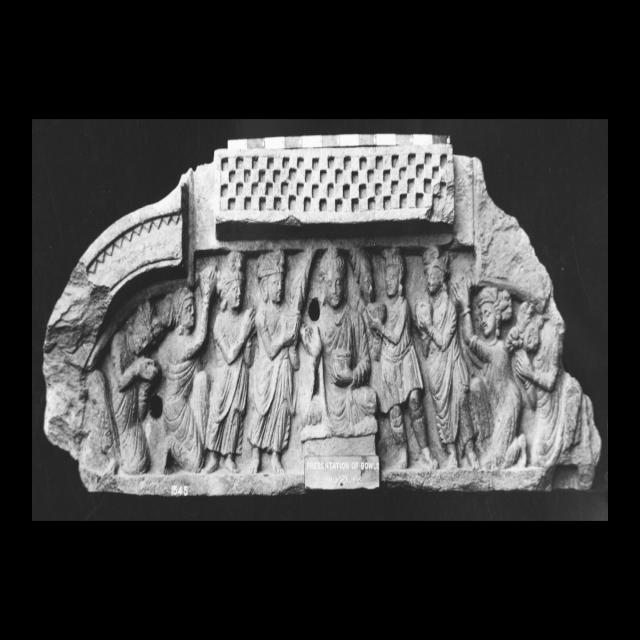buddha-sitting: (301, 247, 379, 489)
